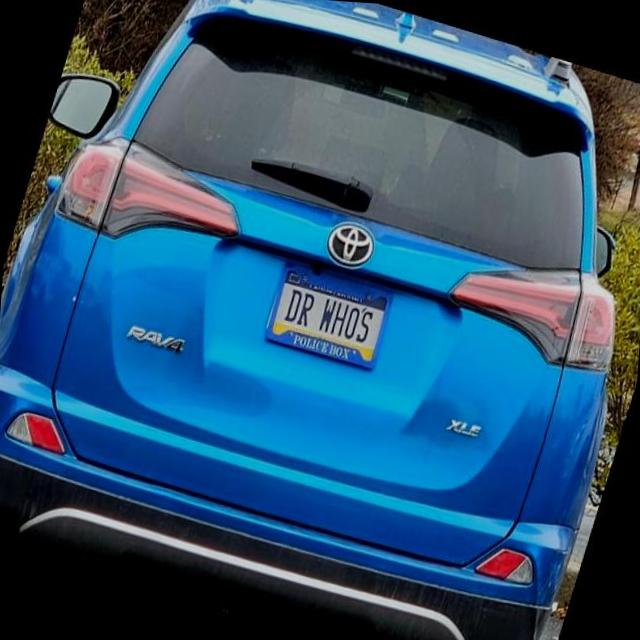LicensePlate: (259, 257, 395, 372)
